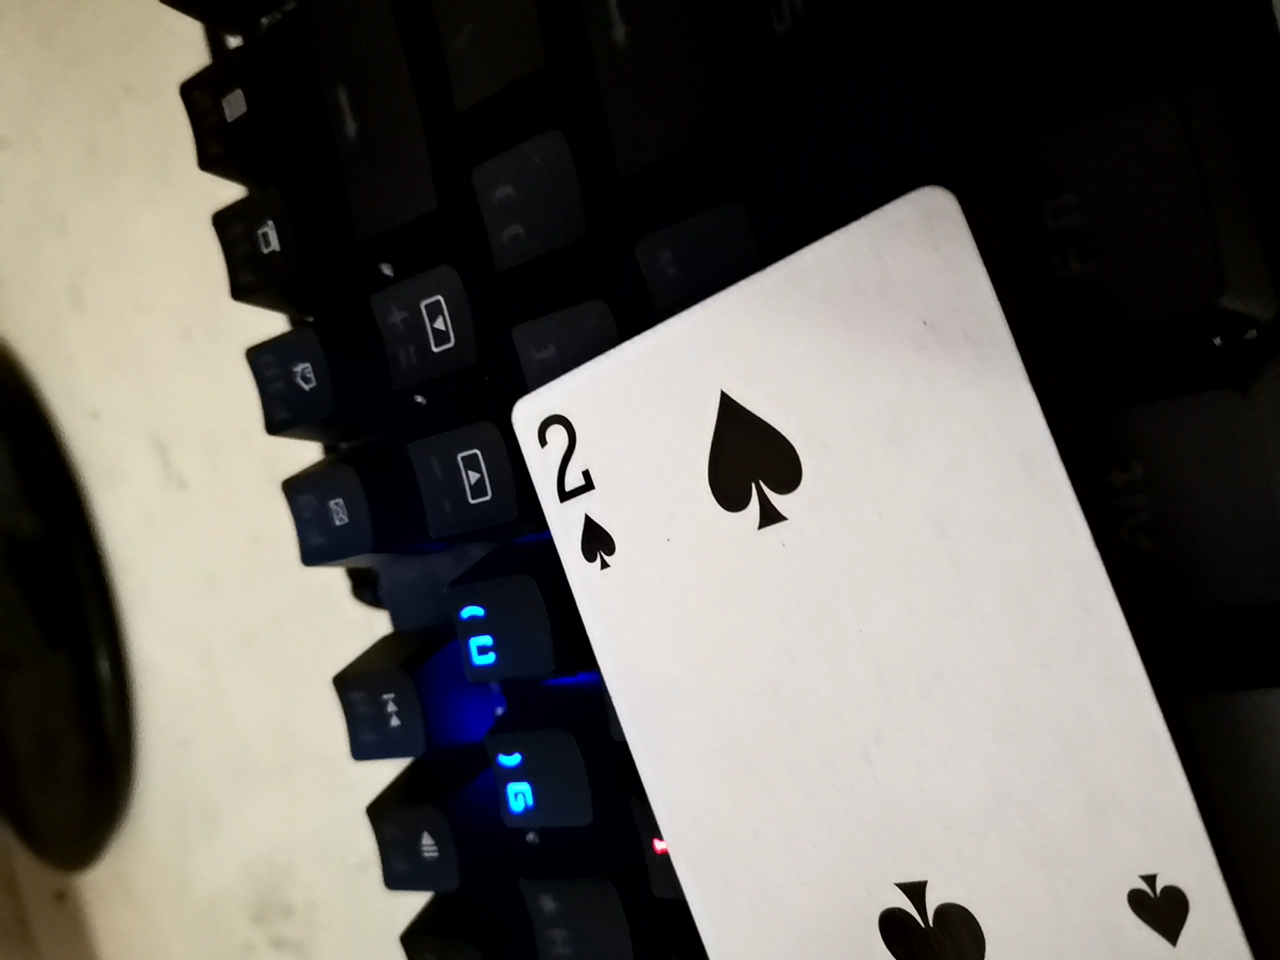ht 2: (486, 193, 1271, 957)
